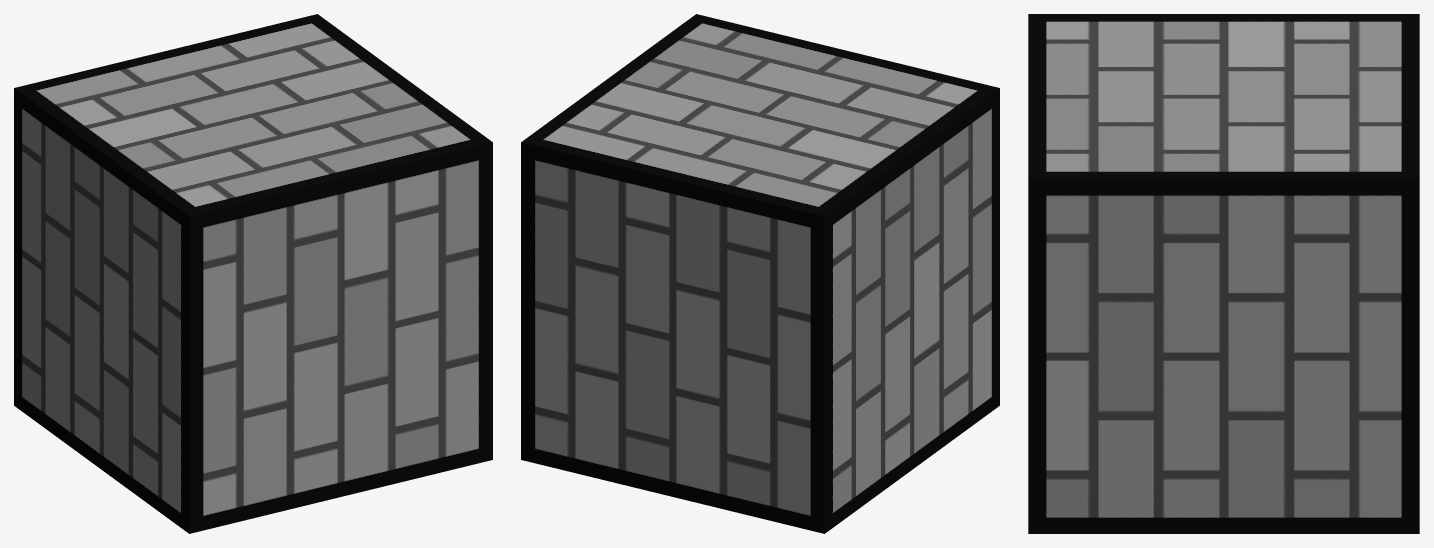
The model's file is StoneBrick_v2.glb.
3 views of the same model, side by side, from view 1: azimuth 30°, elevation 25°; view 2: azimuth 150°, elevation 25°; view 3: azimuth 270°, elevation 25° (orthographic). The views are drawn at different scales.
Parts seen in each view (by area): view 1: StoneBricksBaked; view 2: StoneBricksBaked; view 3: StoneBricksBaked.
Part boxes in pixels (left/top/right/bottom): StoneBricksBaked: left=14, top=14, right=492, bottom=533; StoneBricksBaked: left=521, top=14, right=999, bottom=533; StoneBricksBaked: left=1028, top=14, right=1419, bottom=533.
Size of the model in its own units: 0.98 by 0.98 by 0.98.
1 material, 1 textured.
